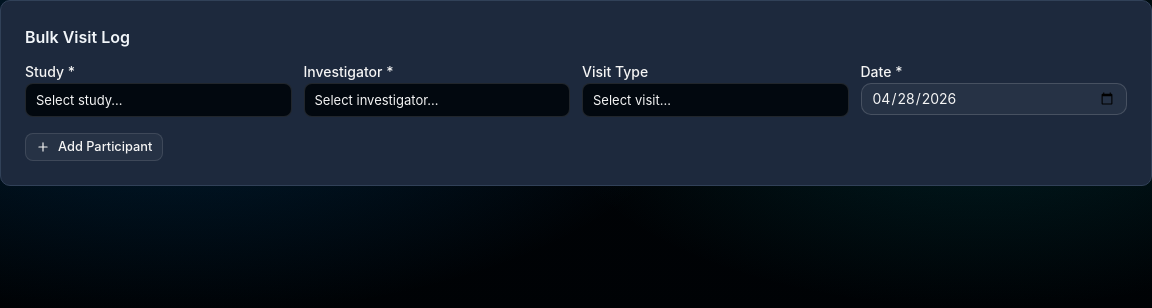
Test: BulkVisitLogForm › adds a participant row when Add Participant is clicked
Click the button "Add Participant": (94, 147) [25,133,163,161]
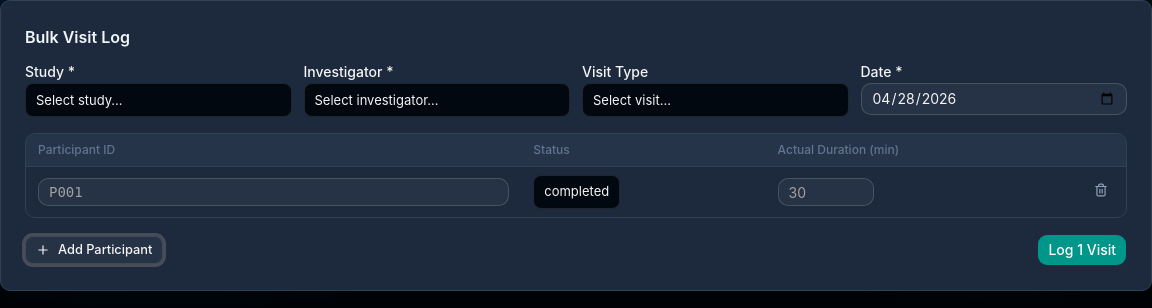
Expected: the field with placeholder "P001" is shown, [38,178,509,206]
